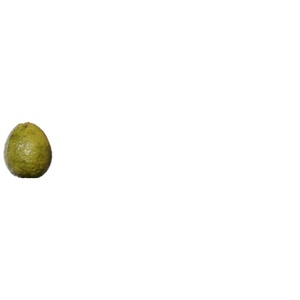goiaba: (3, 118, 55, 182)
